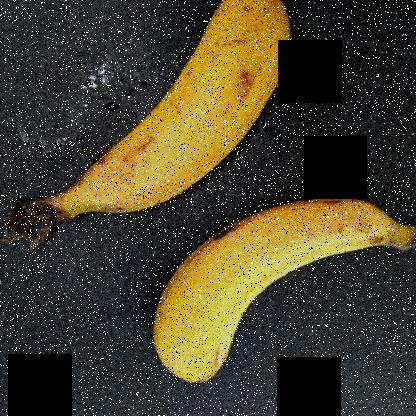freshripe: (122, 184, 415, 400)
ripe: (29, 1, 306, 225)
